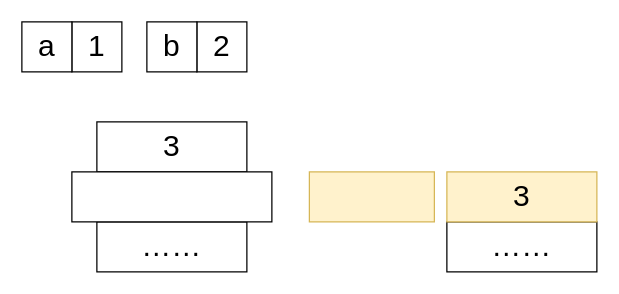
Some shapes in this 619 by 294 pixel diagram are drawn without their labels. Each missing label, with the centre of its shape:
"Function(1)" goes at (x=171, y=196).
"Return" goes at (x=371, y=196).
